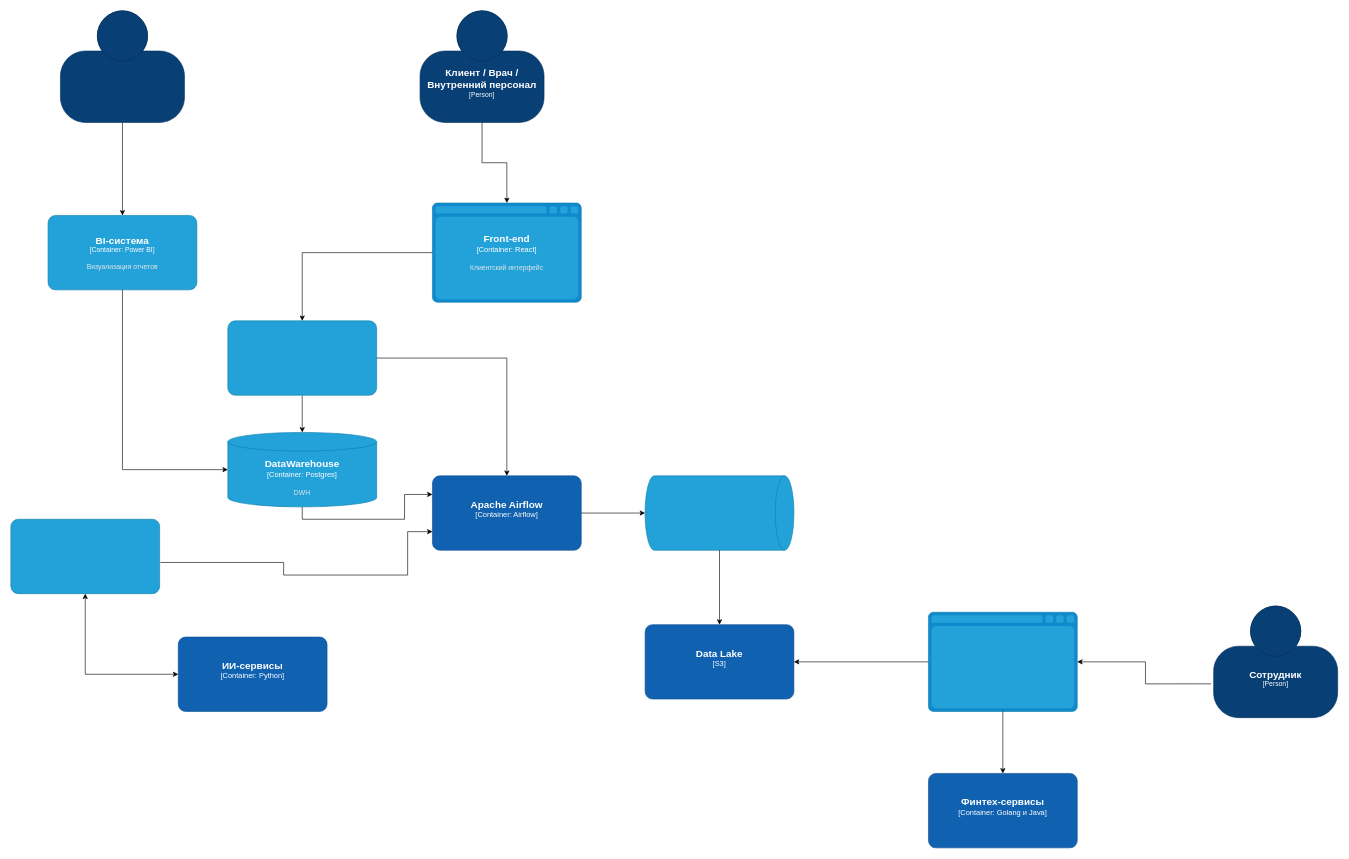
The diagram is 1349 pixels wide and 859 high, and some of its shapes have lost their labels. Each missing label, with the centre of its shape:
"Back-end [Container: SpringBoot, ElasticSearch] Основной сервис" goes at point (302, 357).
"BI аналитик [Person] BI аналитик" goes at point (122, 66).
"REST API [Container: Java]" goes at point (85, 556).
"Интеграционная шина [Container: Apache Kafka]" goes at point (719, 512).
"Портал самообслуживания [Container: React] Витрина данных" goes at point (1002, 661).
